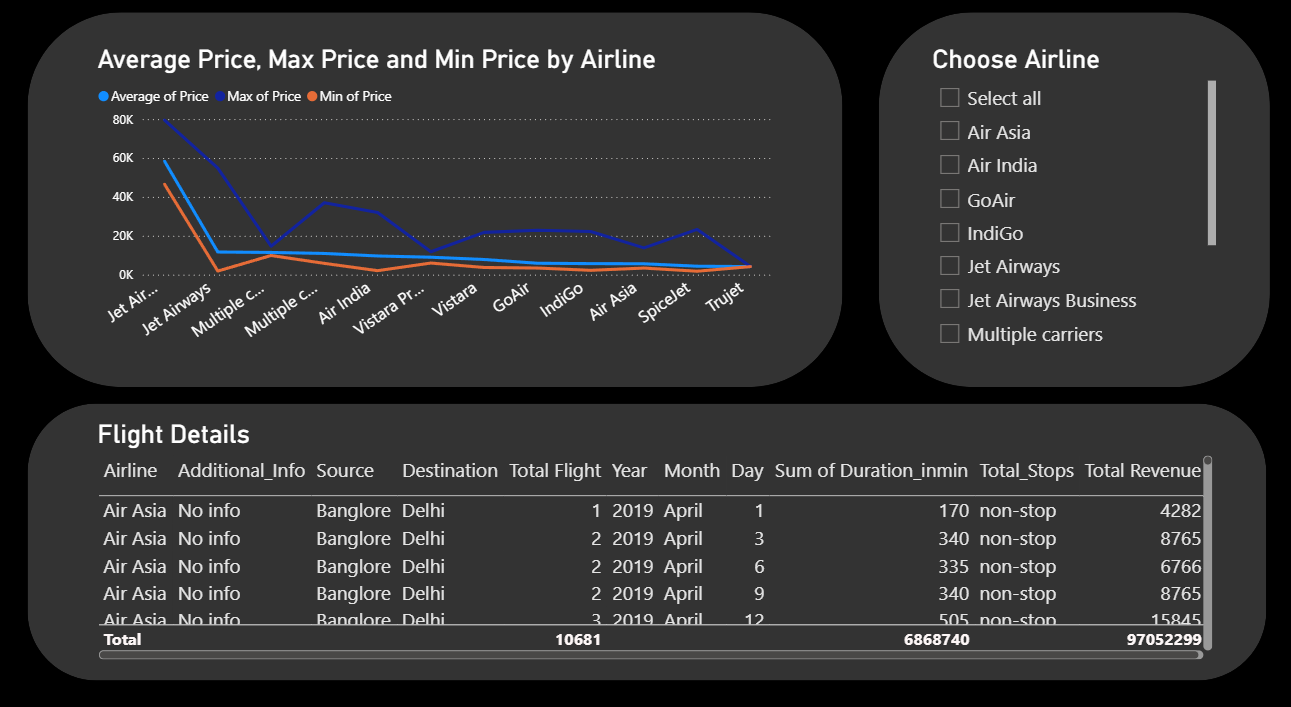

This screenshot's page, from the dashboard's own definition file:
{"tool":"powerbi","page":{"name":"Airline_Analysis","canvas":[1280,720],"ordinal":1},"visuals":[{"type":"group","id":"g1","title":"Group 1","box":[868,16,384,368],"z":0},{"type":"shape","box":[868,16,384,368],"z":0,"group":"g1"},{"type":"shape","box":[32,16,800,368],"z":1000,"group":"g2"},{"type":"shape","box":[32,400,1216,272],"z":1000},{"type":"slicer","title":"Choose Airline","fields":{"Values":["flightprice flight.Airline"]},"box":[916,48,288,304],"z":2000,"group":"g1"},{"type":"tableEx","title":"Flight Details","fields":{"Values":["flightprice flight.Airline","flightprice flight.Additional_Info","flightprice flight.Source","flightprice flight.Destination","flightprice flight.Total Flight","flightprice flight.Date.Variation.Date Hierarchy.Year","flightprice flight.Date.Variation.Date Hierarchy.Month","flightprice flight.Date.Variation.Date Hierarchy.Day","Sum(flightprice flight.Duration_inmin)","flightprice flight.Total_Stops","flightprice flight.Total Revenue"]},"box":[96,416,1104,240],"z":2000},{"type":"group","id":"g2","title":"Group 3","box":[32,16,800,368],"z":3000},{"type":"lineChart","title":"Average Price, Max  Price and Min Price by Airline","fields":{"Y":["Avg(flightprice flight.Price)","Max(flightprice flight.Price)","Min(flightprice flight.Price)1"],"Category":["flightprice flight.Airline"]},"box":[96,48,672,304],"z":3000,"group":"g2"}]}

Visuals, with their boxes in screenshot pixels (x1, y1, x2, y2), scaled from the page's 1280x720 canvas onto the 1291x707 screenshot:
"Group 1" group: {"x1": 875, "y1": 16, "x2": 1263, "y2": 377}
shape: {"x1": 875, "y1": 16, "x2": 1263, "y2": 377}
shape: {"x1": 32, "y1": 16, "x2": 839, "y2": 377}
shape: {"x1": 32, "y1": 393, "x2": 1259, "y2": 660}
"Choose Airline" slicer: {"x1": 924, "y1": 47, "x2": 1214, "y2": 346}
"Flight Details" tableEx: {"x1": 97, "y1": 408, "x2": 1210, "y2": 644}
"Group 3" group: {"x1": 32, "y1": 16, "x2": 839, "y2": 377}
"Average Price, Max  Price and Min Price by Airline" lineChart: {"x1": 97, "y1": 47, "x2": 775, "y2": 346}
